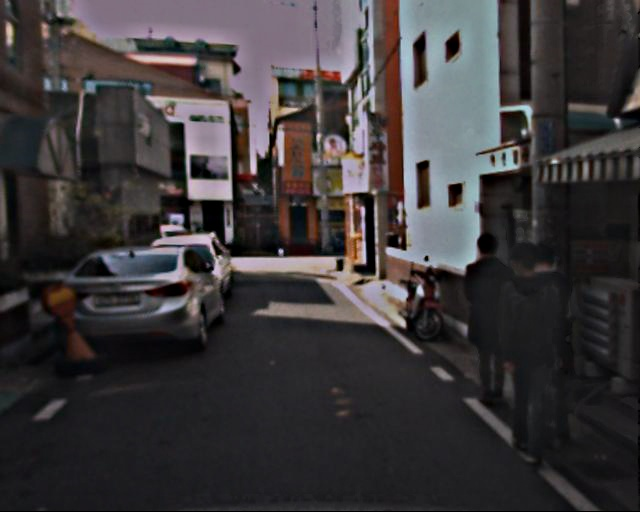person: (482, 246, 572, 465), (506, 243, 588, 443), (454, 232, 525, 406)
